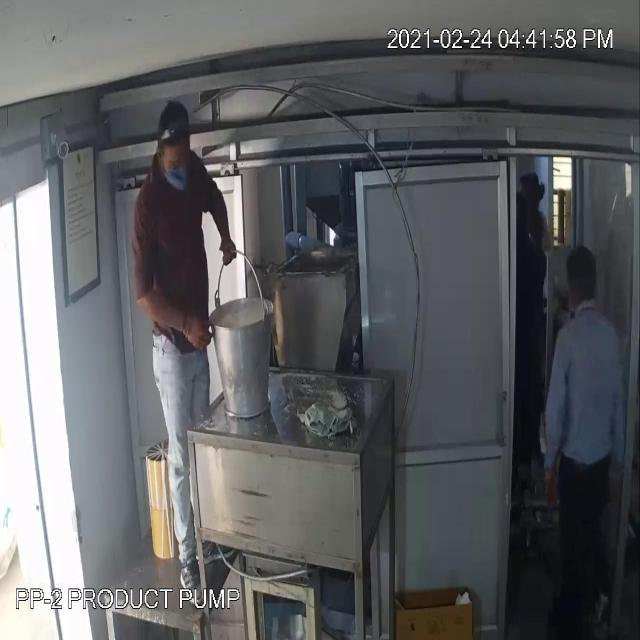no-helmet: (150, 90, 197, 159)
